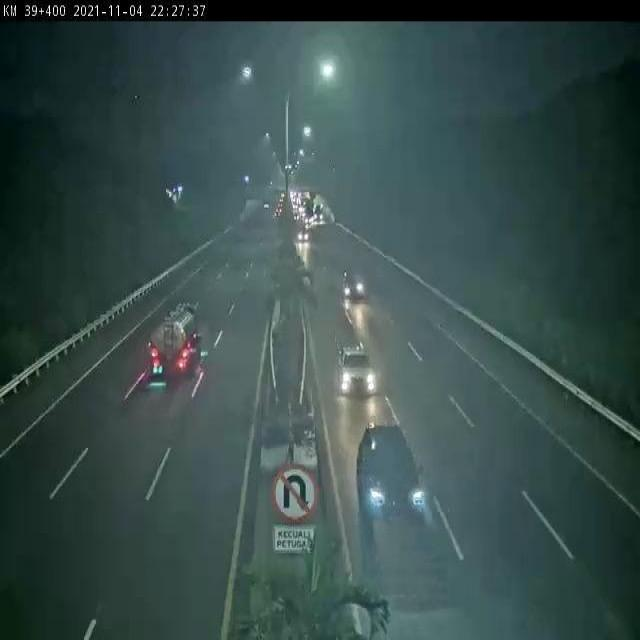car: (358, 425, 421, 516), (339, 344, 376, 396), (340, 269, 365, 299)
truck-l-: (151, 304, 198, 375)
